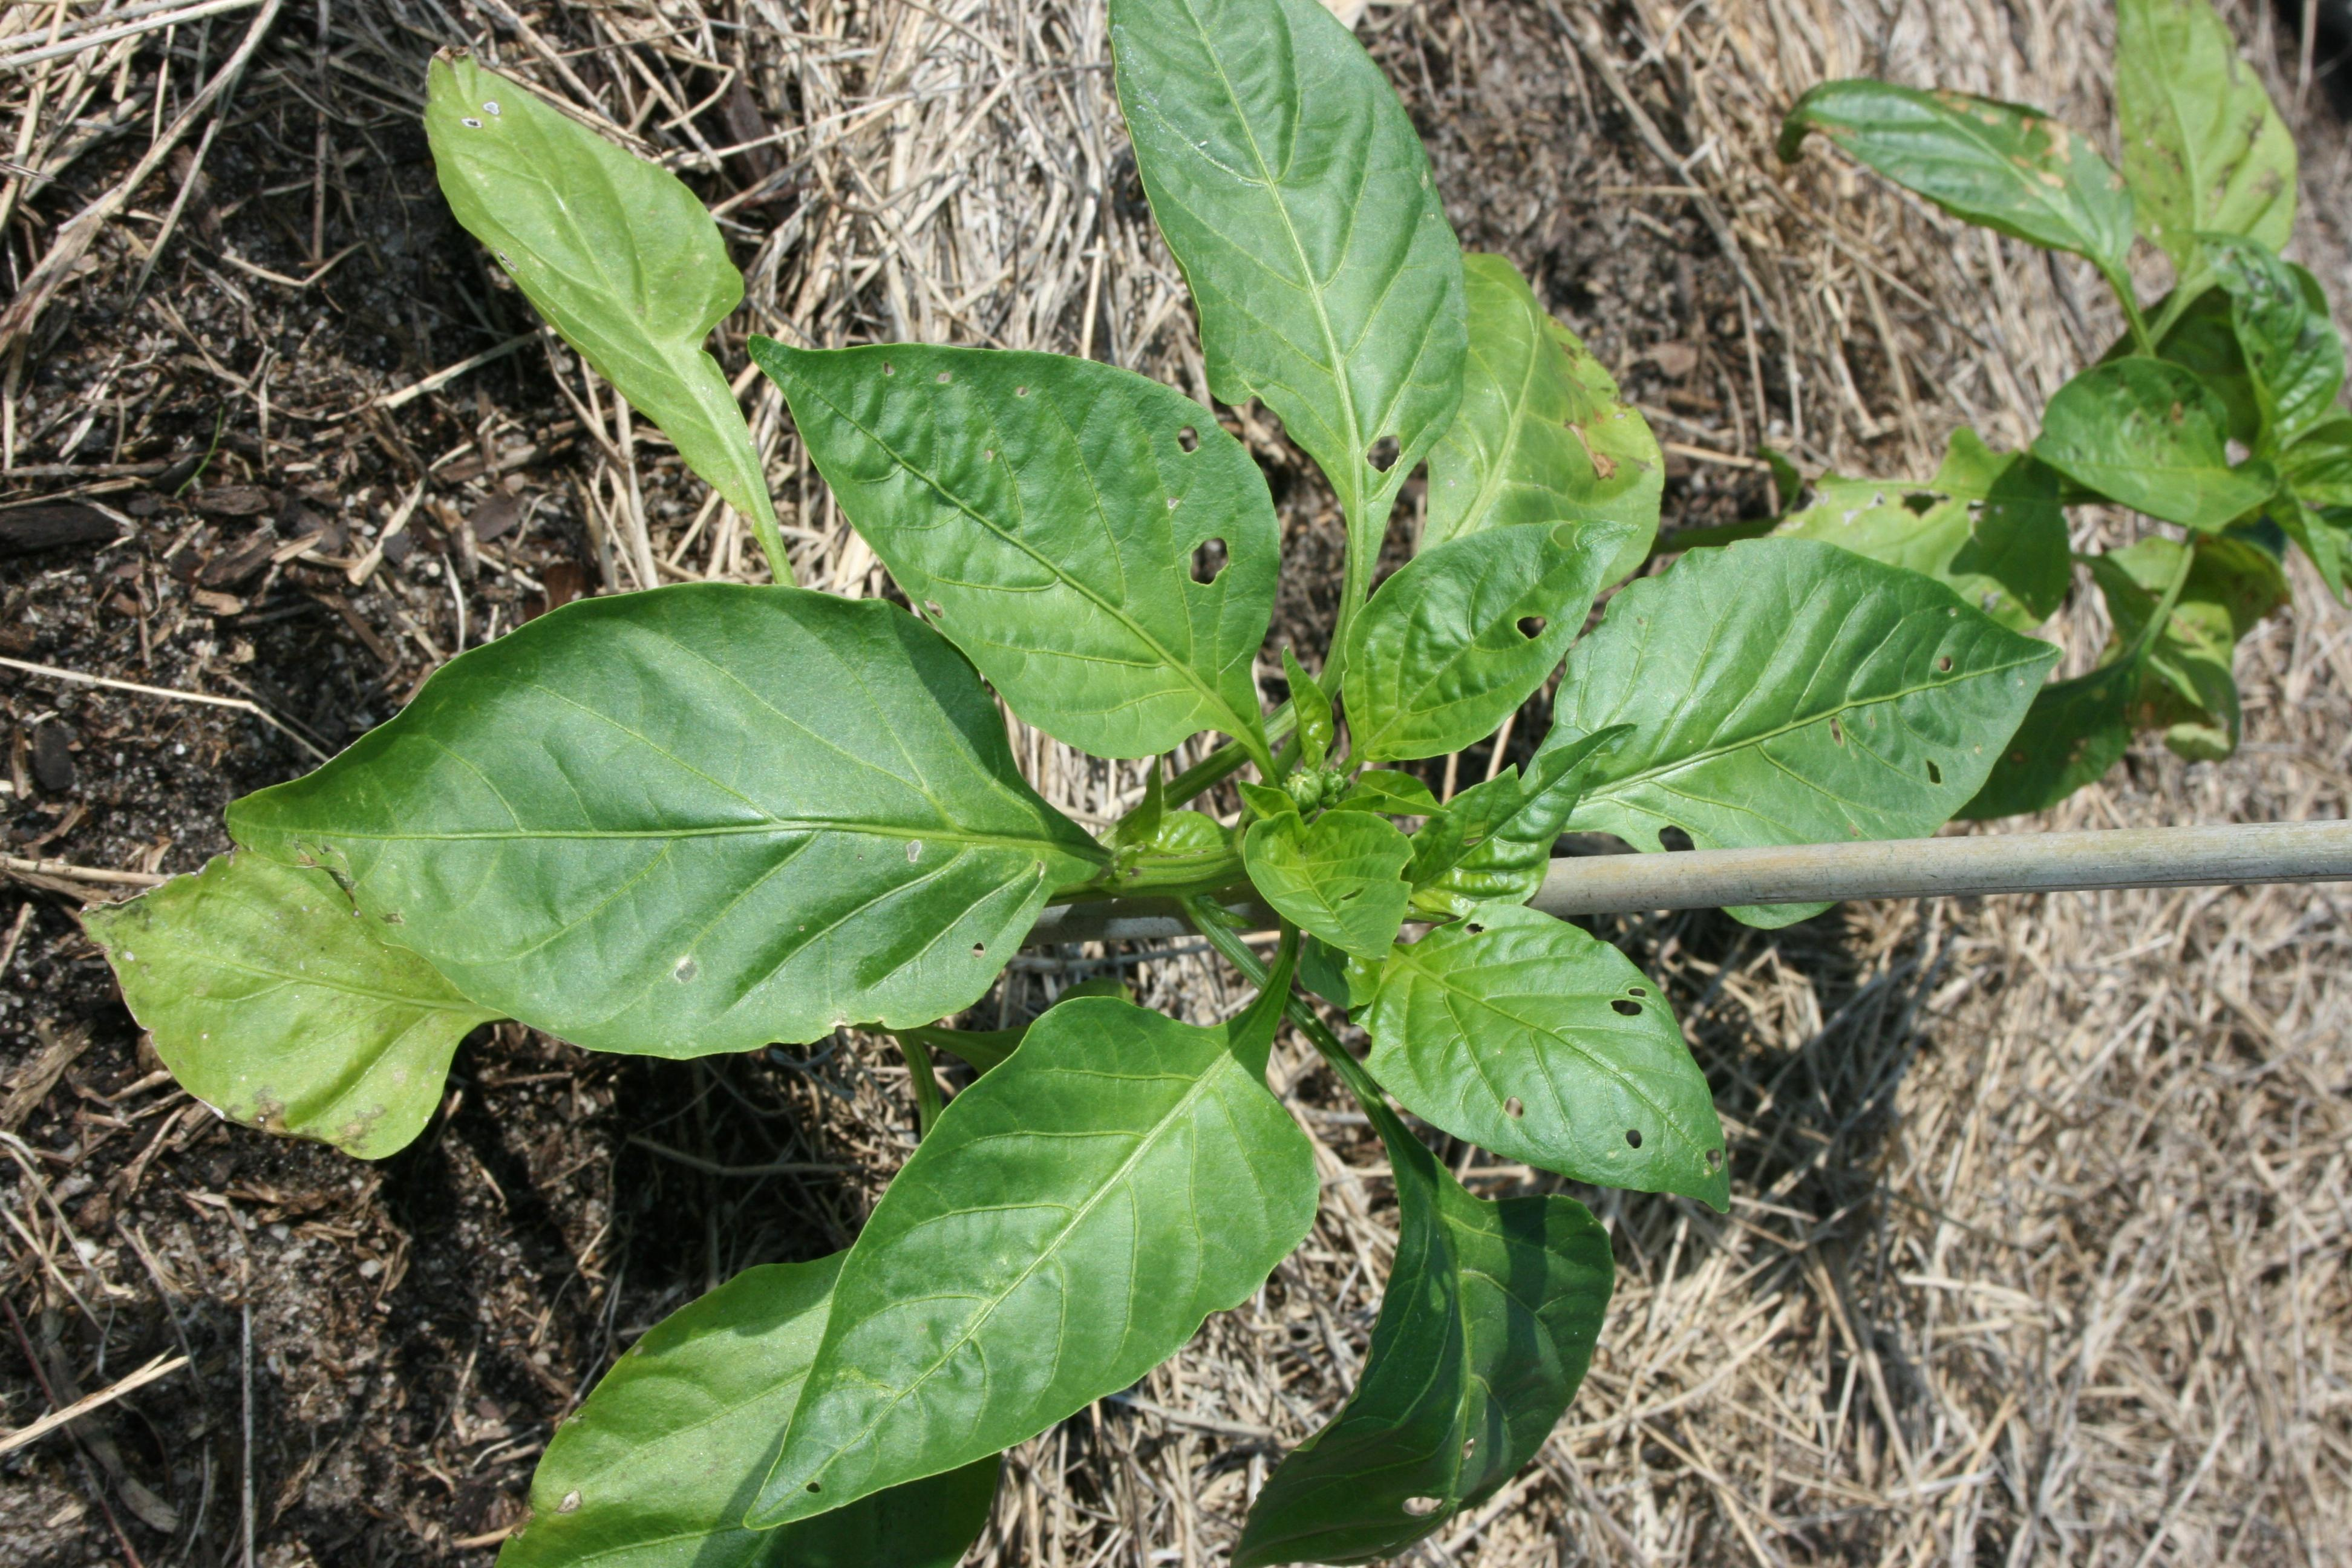Tomato leaf bacterial spot: (408, 395, 1591, 691), (1123, 646, 1976, 1036), (1094, 161, 1949, 506), (1638, 2, 2205, 387), (640, 17, 1223, 378), (2027, 612, 2352, 803), (2282, 339, 2352, 583)
